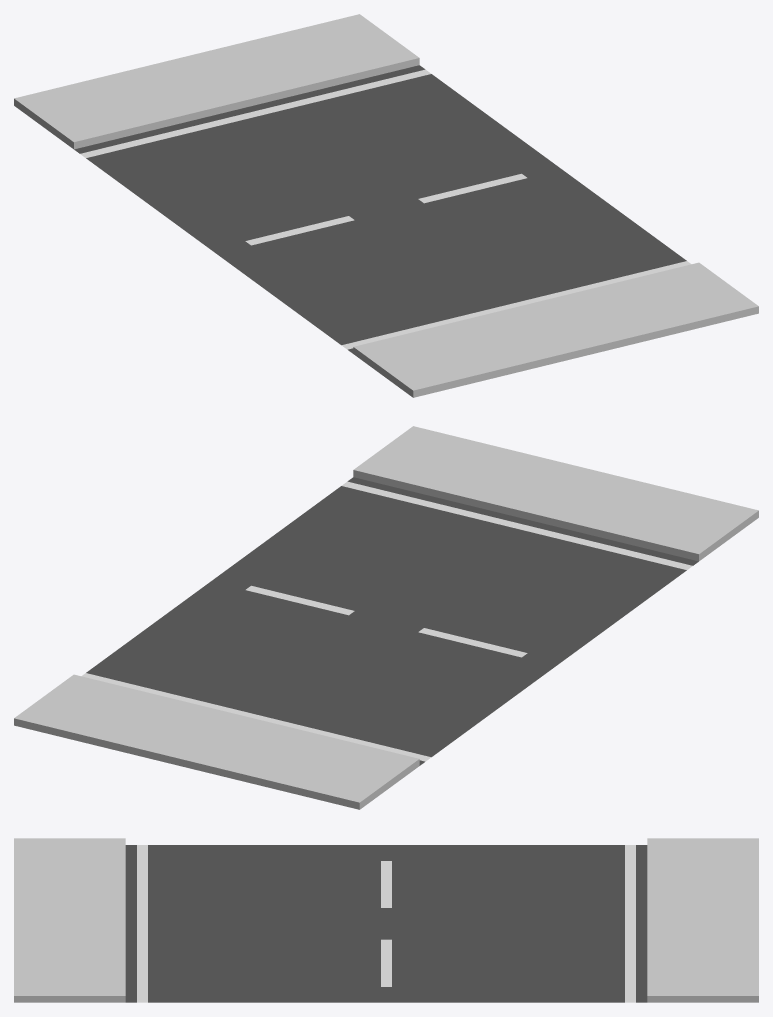
Rendered from SPW_Urban_Road 2way_01.gltf.
The picture shows the model from 3 angles, top to bottom: view 1: azimuth 30°, elevation 25°; view 2: azimuth 150°, elevation 25°; view 3: azimuth 270°, elevation 25°; orthographic projection. The views are drawn at different scales.
Visible parts, largest first — view 1: SPW_Urban_Road_2way_01; view 2: SPW_Urban_Road_2way_01; view 3: SPW_Urban_Road_2way_01.
Boxes of the visible parts, x1,y1,x2,y2 form: SPW_Urban_Road_2way_01: (14,14,758,397); SPW_Urban_Road_2way_01: (14,426,758,809); SPW_Urban_Road_2way_01: (14,838,758,1002).
Size of the model in its own units: 394 by 7.87 by 787.
1 material, 1 textured.
